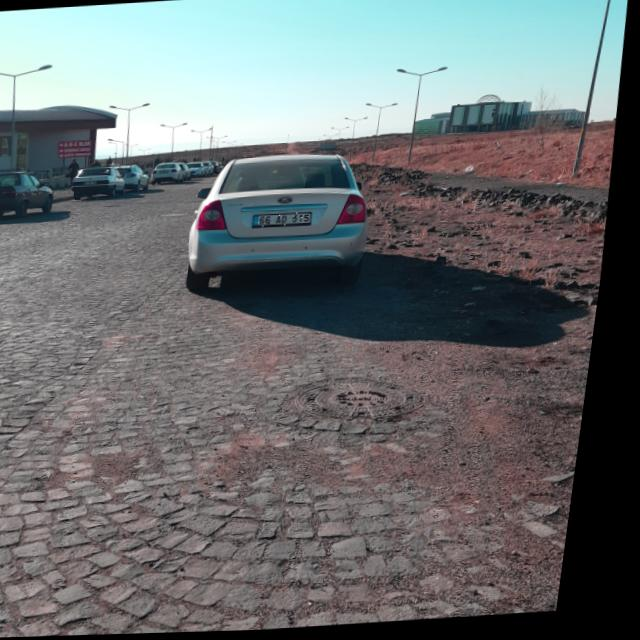license_plate: (258, 213, 319, 228)
